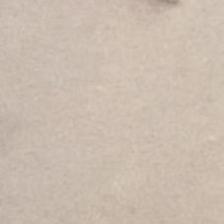Non_Crack: (5, 7, 224, 224)
